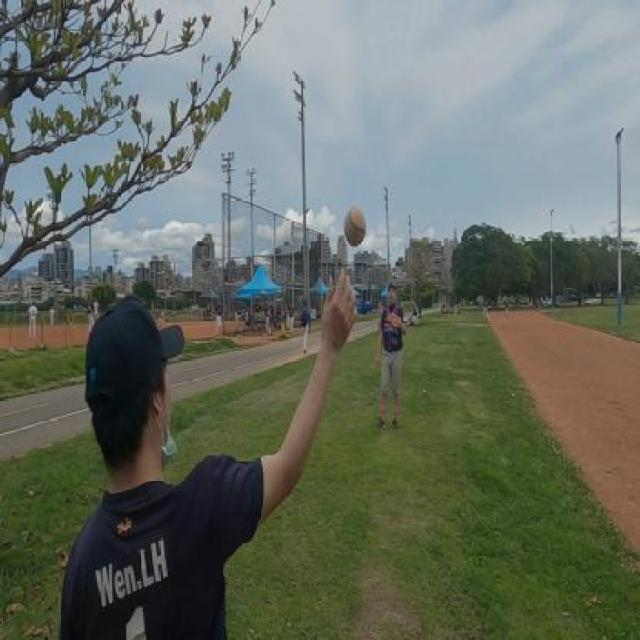baseball: (344, 206, 365, 248)
